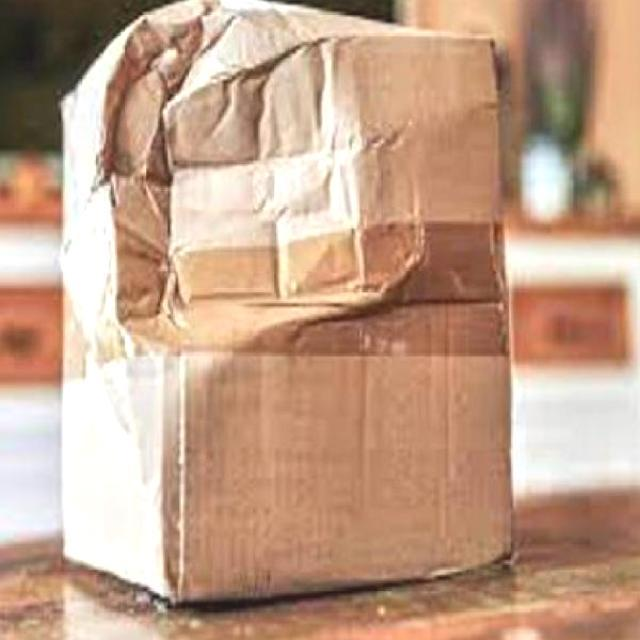box: (1, 17, 630, 603)
